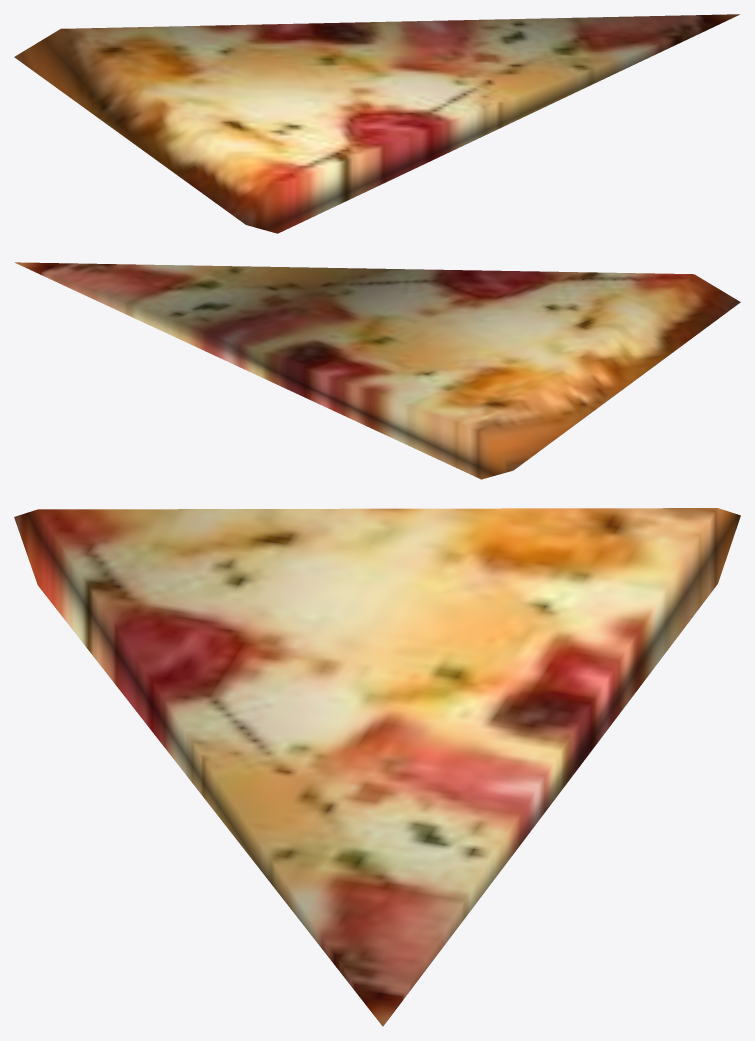
The model's file is Sliced_pizza_02.glb.
3 renders of one model, top to bottom at view 1: azimuth 30°, elevation 25°; view 2: azimuth 150°, elevation 25°; view 3: azimuth 270°, elevation 25°, orthographic. The views are drawn at different scales.
Parts seen in each view (by area): view 1: Sliced_pizza_02; view 2: Sliced_pizza_02; view 3: Sliced_pizza_02.
Boxes of the visible parts, x1,y1,x2,y2 form: Sliced_pizza_02: (14,14,739,233); Sliced_pizza_02: (14,262,740,479); Sliced_pizza_02: (14,508,740,1026).
Bounding box in the file's own units: 0.275 × 0.0205 × 0.1784.
1 material, 1 textured.
